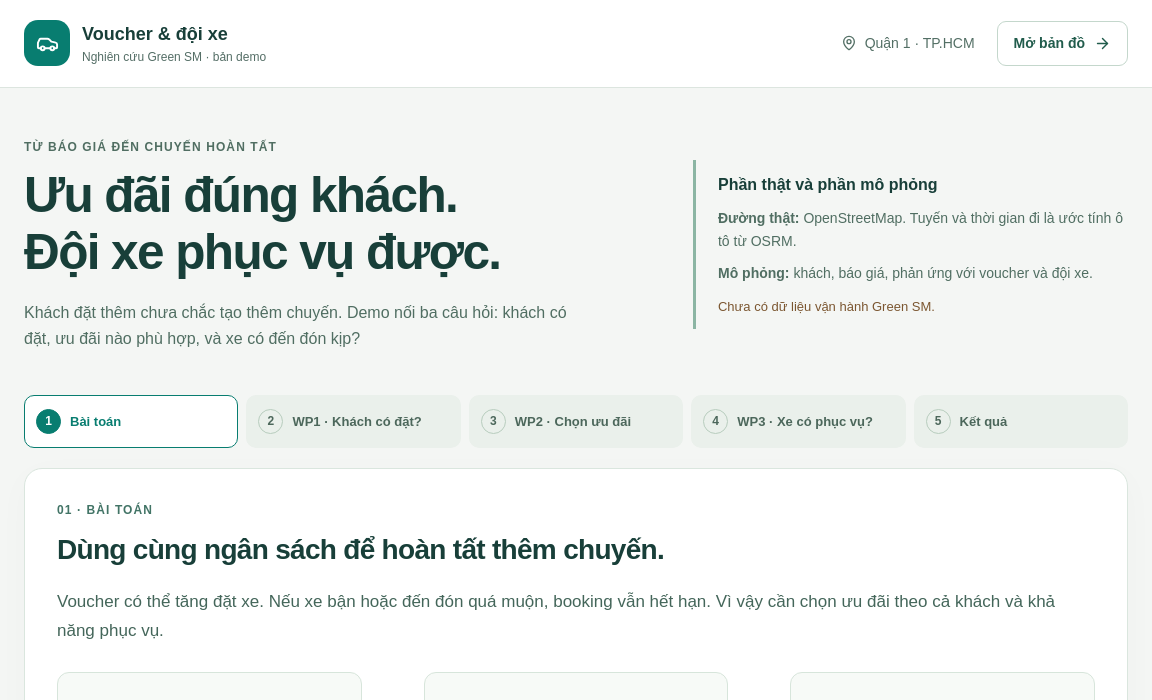
guided demo uses the current verified research readings › reports both failed targets without mixing the later inactive model into the map result
The width and height of the screenshot is (1152, 700).
Click the button "5 Kết quả" at (1021, 422), box x1=914 y1=395 x2=1128 y2=448
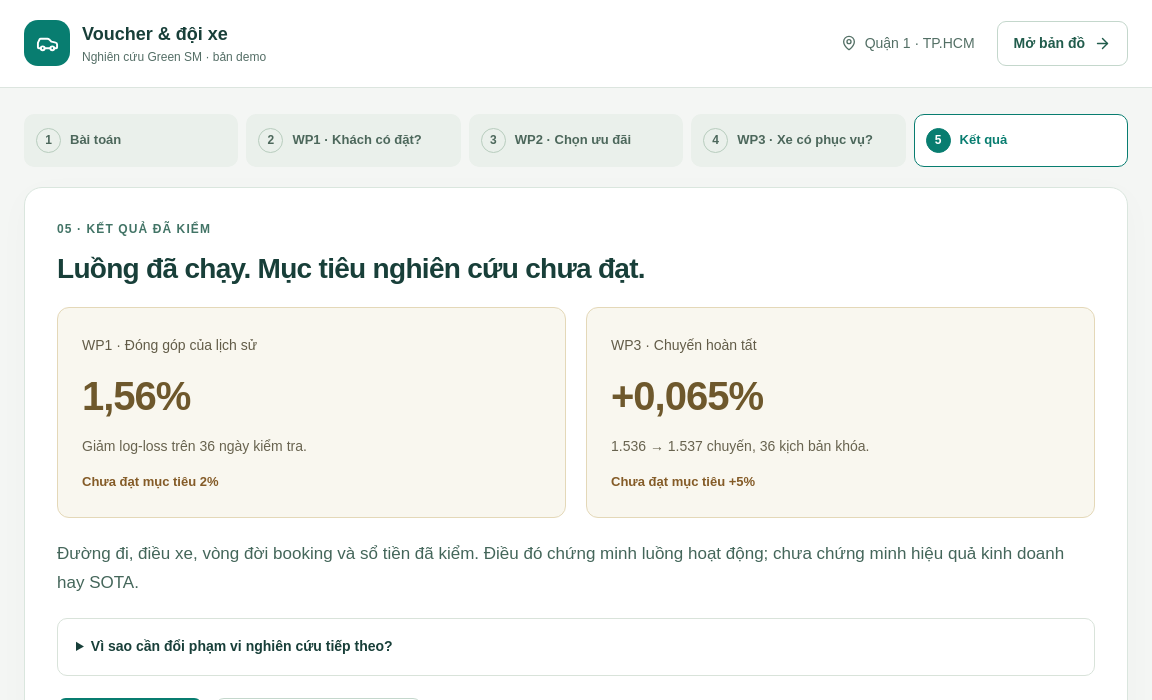
Now the text "1,56%" is shown, box x1=82 y1=374 x2=190 y2=418
Now the text "+0,065%" is shown, box x1=611 y1=374 x2=763 y2=418
Now the text "Chưa đạt mục tiêu 2%" is shown, box x1=82 y1=474 x2=219 y2=489
